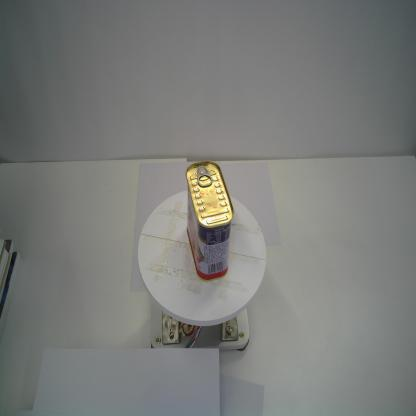Canned Food: (186, 160, 234, 282)
